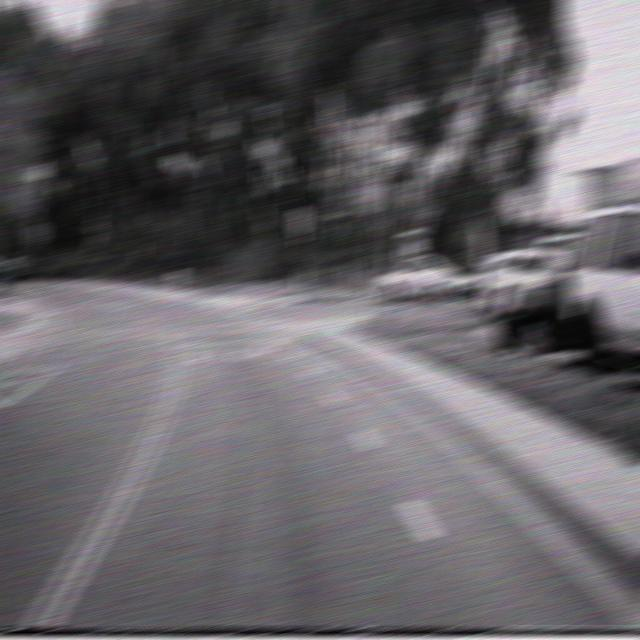stop: (354, 170, 384, 215), (290, 206, 308, 238)
